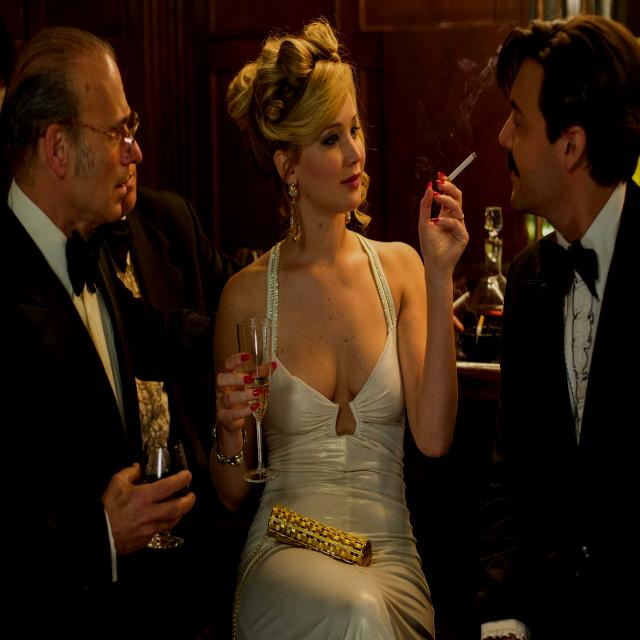Smooking: (444, 145, 483, 192)
